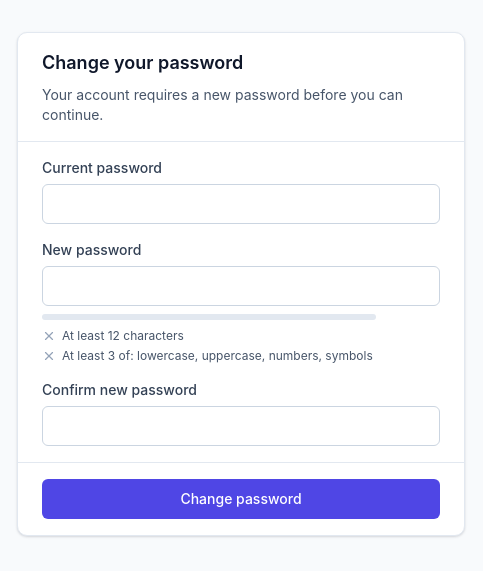
it: ChangePasswordPage › TC-8: a weak new password shows an inline error before submit
Expected: the text "Your account requires a new password before you can continue." is shown, [42,85,440,125]
In the password field labelled "Current password": {"x": 241, "y": 204} [42,184,440,224], type "OldPassword1!"
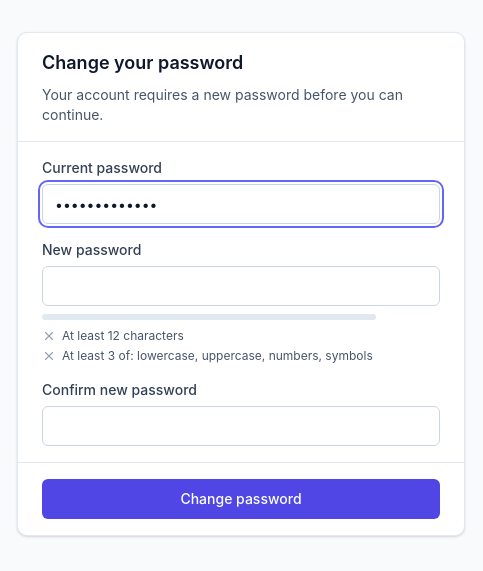
In the password field labelled "New password": {"x": 241, "y": 286} [42,266,440,306], type "short1!"
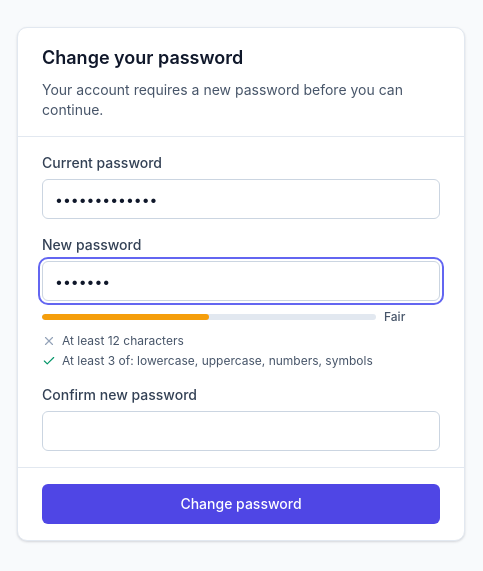
In the password field labelled "Confirm new password": {"x": 241, "y": 431} [42,411,440,451], type "short1!"
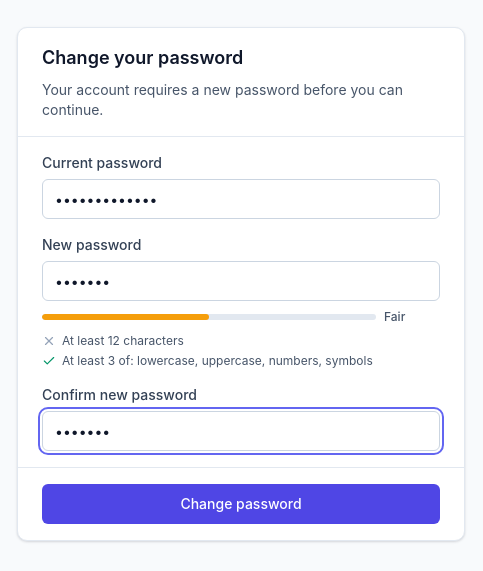
Click the button "Change password": {"x": 241, "y": 504} [42,484,440,524]
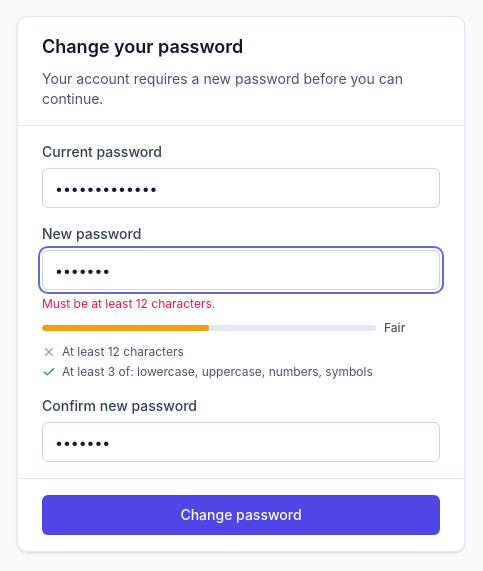
Now the text "Must be at least 12 characters." is shown, box [42,296,215,311]
